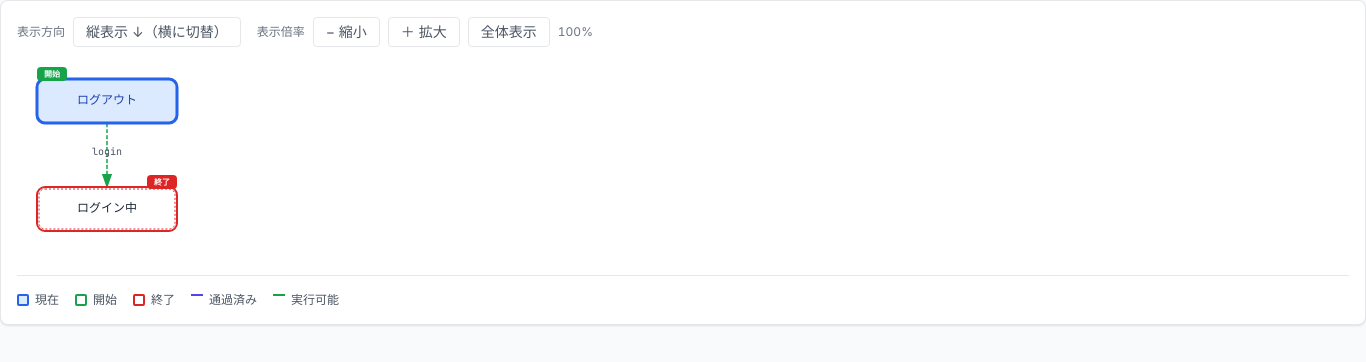
StateDiagram zoom controls (SOT-948) › 全体表示 resets back to the fit (100%) scale after manual zoom
Step 1. Click the button labelled "＋ 拡大" → (424, 32), box 388,17 -> 460,47
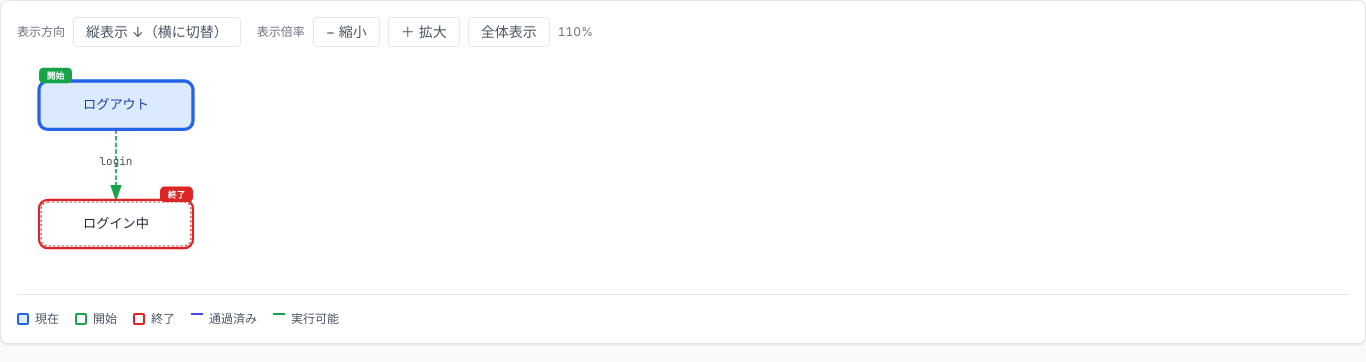
Check: the text "110%" is shown, box 558,24 -> 593,40
Step 2. Click the button with aria-label "全体表示（縮尺リセット）" → (509, 32), box 468,17 -> 550,47
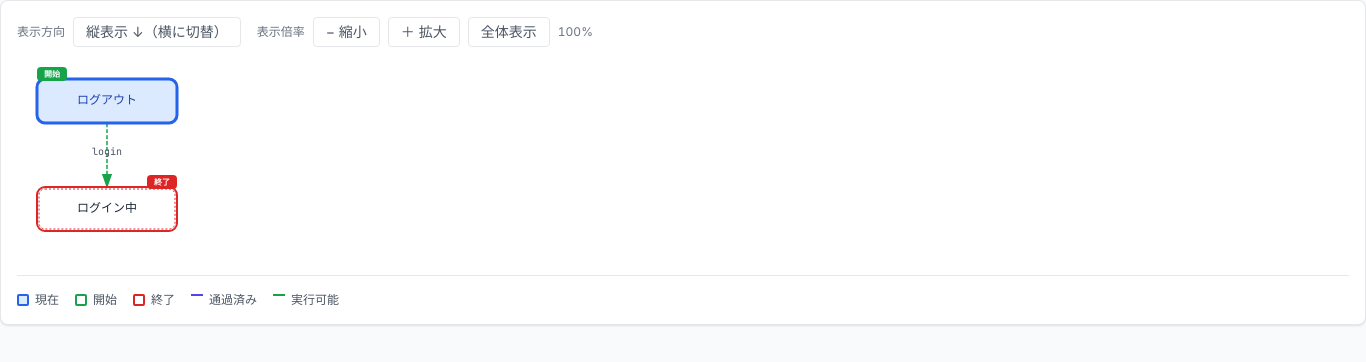
Check: the text "100%" is shown, box 558,24 -> 593,40
